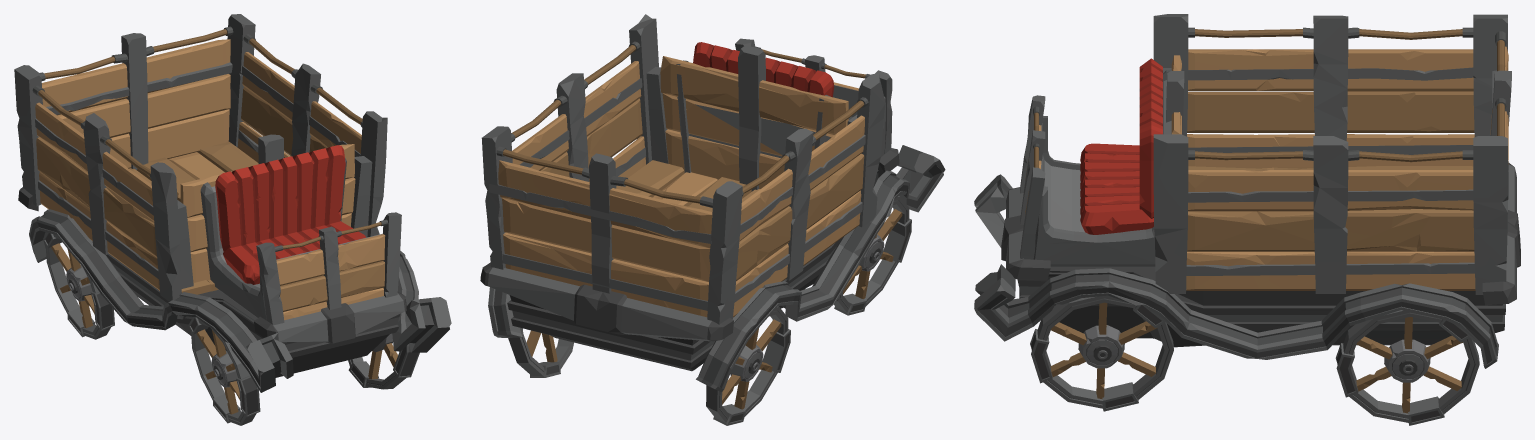
The model's file is Player(old).fbx.
3 renders of one model, left to right at view 1: azimuth 30°, elevation 25°; view 2: azimuth 150°, elevation 25°; view 3: azimuth 270°, elevation 25°, orthographic. The views are drawn at different scales.
Visible parts, largest first — view 1: Wagon, WagonWheel, WagonWheel.001; view 2: Wagon, WagonWheel.001, WagonWheel; view 3: Wagon, WagonWheel, WagonWheel.001.
Part boxes in pixels (x1=…): Wagon: x1=14, y1=14, x2=451, y2=392; WagonWheel: x1=188, y1=317, x2=419, y2=425; WagonWheel.001: x1=43, y1=232, x2=114, y2=339; Wagon: x1=480, y1=14, x2=945, y2=392; WagonWheel.001: x1=508, y1=306, x2=790, y2=425; WagonWheel: x1=834, y1=196, x2=911, y2=315; Wagon: x1=974, y1=14, x2=1520, y2=368; WagonWheel: x1=1030, y1=295, x2=1173, y2=411; WagonWheel.001: x1=1335, y1=310, x2=1479, y2=425.
Size of the model in its own units: 219 by 216 by 359.
